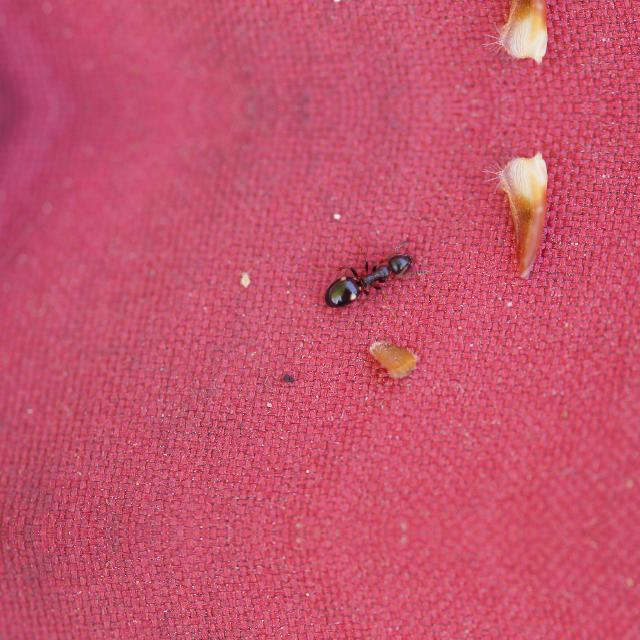Dolichoderus: (307, 242, 427, 312)
